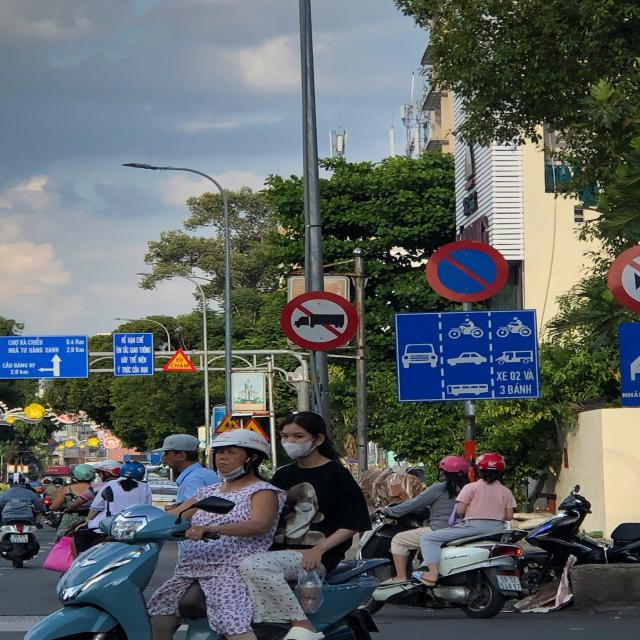Bien bao cam do xe: (414, 232, 514, 309)
Bien bao cam xe so-mi ro-mooc: (267, 283, 370, 356)
